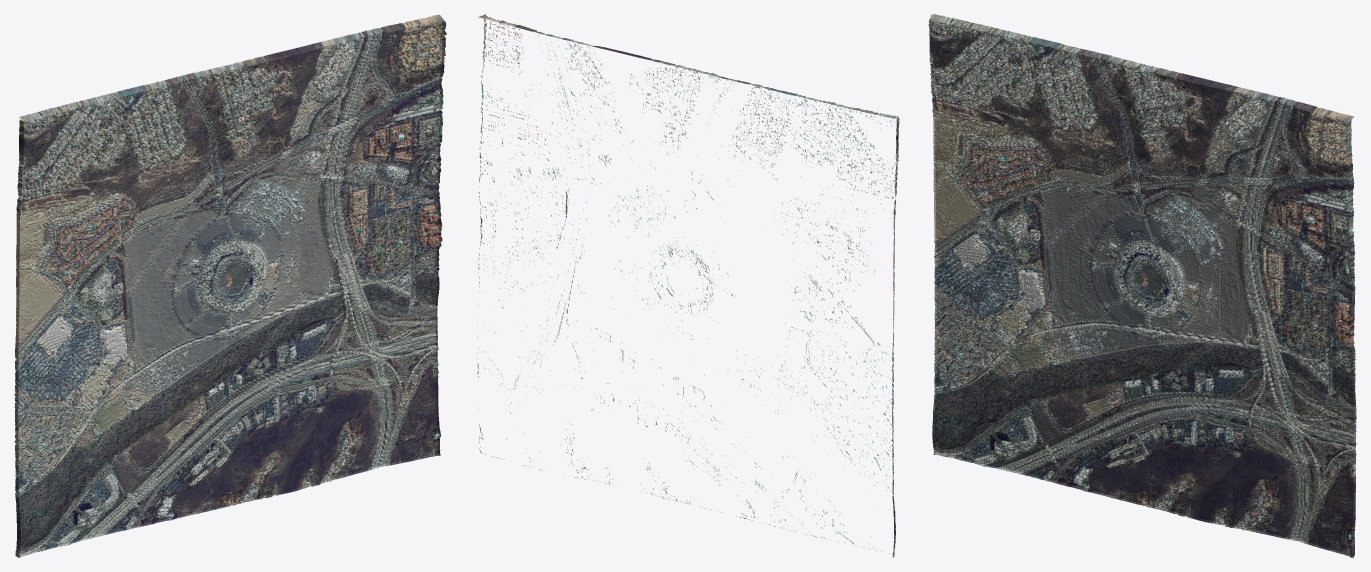
Rendered from stadium_mesh.glb.
3 renders of one model, left to right at view 1: azimuth 30°, elevation 25°; view 2: azimuth 150°, elevation 25°; view 3: azimuth 330°, elevation 25°, orthographic.
Visible parts, largest first — view 1: stadium_mesh.ply; view 2: stadium_mesh.ply; view 3: stadium_mesh.ply.
Part boxes in pixels (bbox=[...]): stadium_mesh.ply: bbox=[14, 14, 446, 557]; stadium_mesh.ply: bbox=[477, 14, 899, 557]; stadium_mesh.ply: bbox=[928, 14, 1356, 557].
Size of the model in its own units: 240 by 240 by 12.06.
